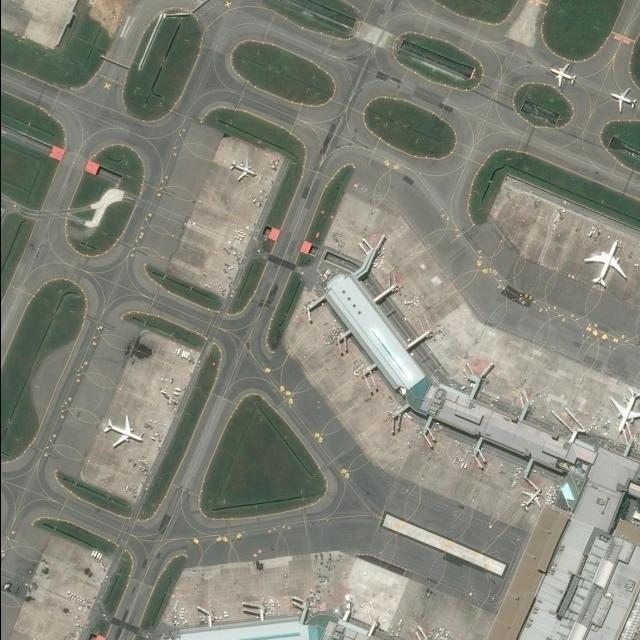Aircraft: (581, 240, 626, 290), (608, 387, 640, 435), (100, 415, 142, 450), (546, 63, 576, 89), (607, 88, 637, 114), (227, 157, 256, 183), (518, 488, 542, 513)
